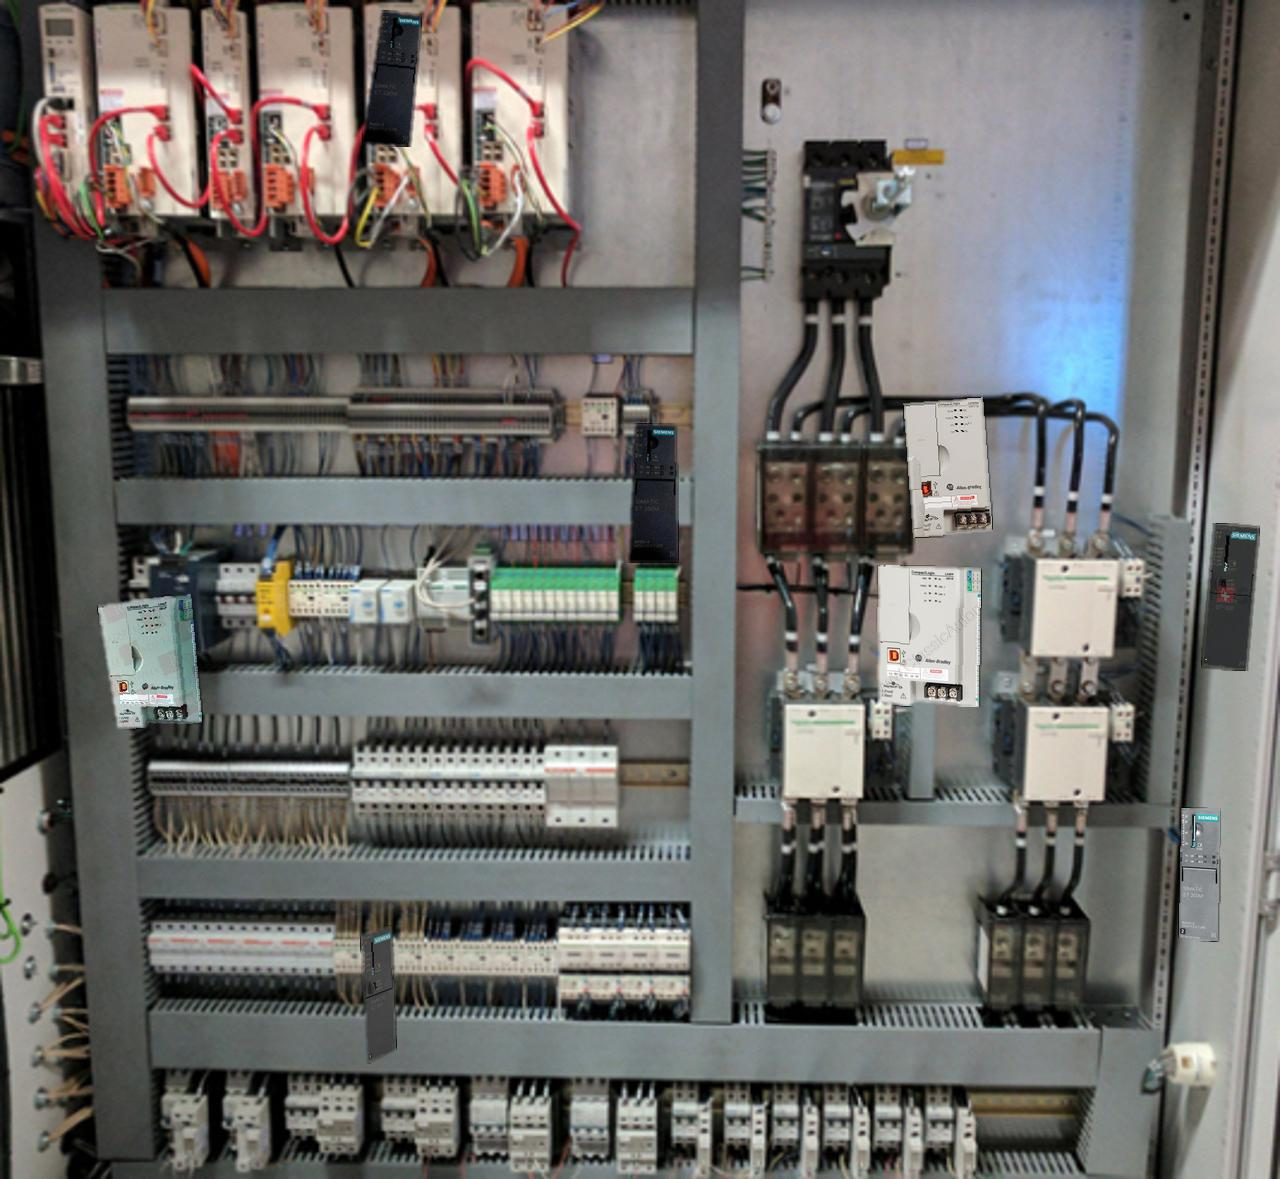AllenBradley: (877, 566, 980, 706), (98, 595, 201, 727), (903, 397, 991, 537)
Siemens: (1202, 523, 1258, 670), (361, 926, 395, 1062)
